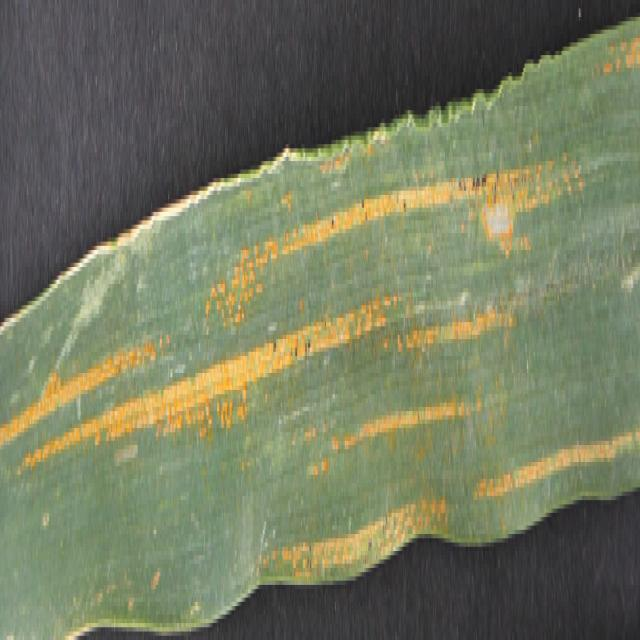leaf rust: (1, 34, 640, 555)
